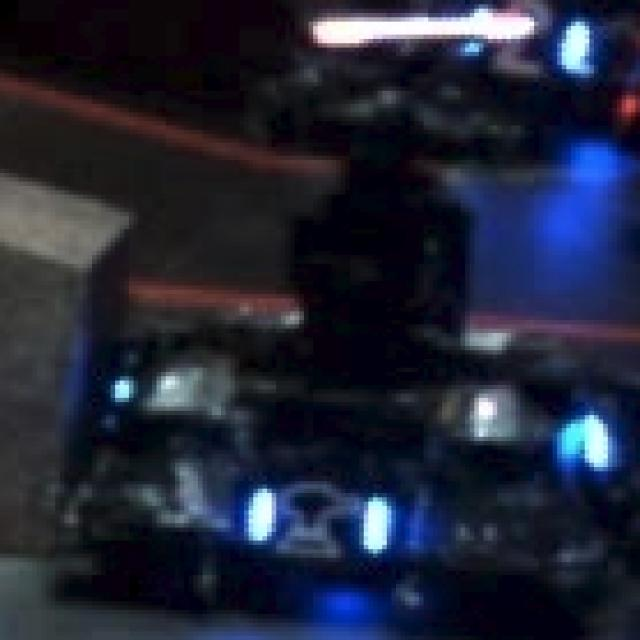Bs: (249, 472, 396, 566)
